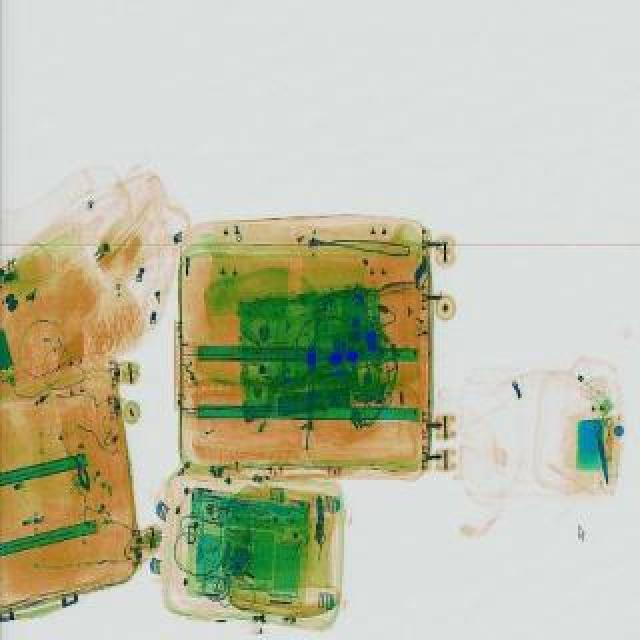knife: (590, 414, 614, 482)
